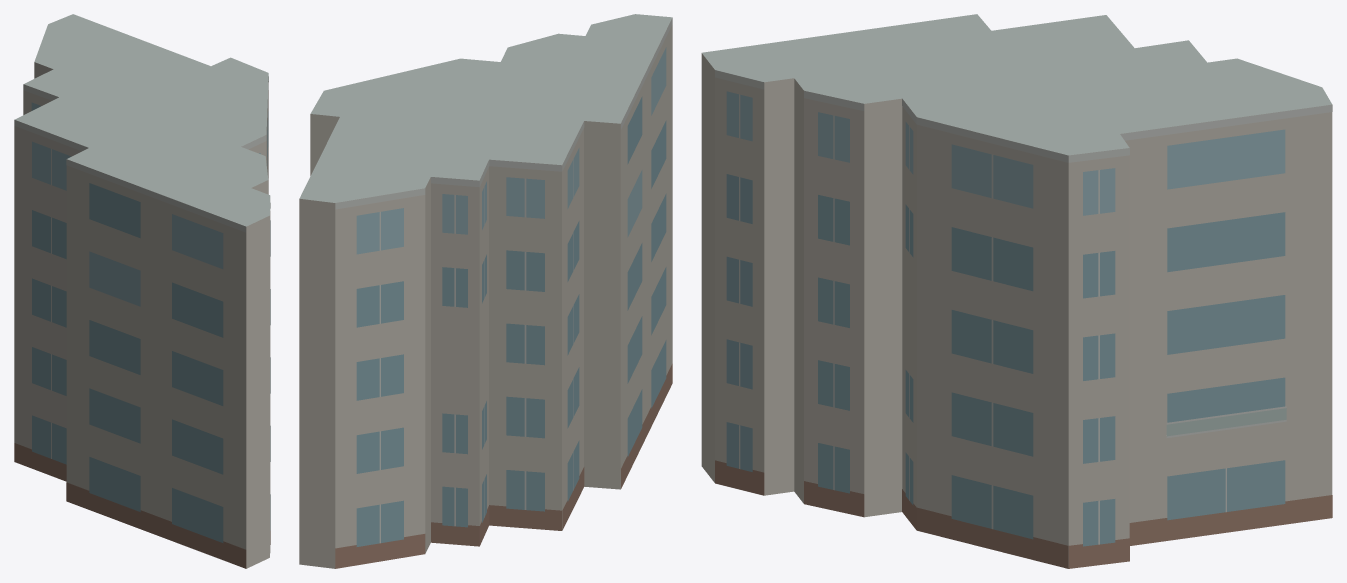
File: survey-upis-32740116.glb
3 views of the same model, side by side, from view 1: azimuth 30°, elevation 25°; view 2: azimuth 150°, elevation 25°; view 3: azimuth 270°, elevation 25° (orthographic). The views are drawn at different scales.
Parts seen in each view (by area): view 1: survey-upis-32740116.tmp; view 2: survey-upis-32740116.tmp; view 3: survey-upis-32740116.tmp.
Part boxes in pixels (left/top/right/bottom): survey-upis-32740116.tmp: left=14, top=14, right=270, bottom=568; survey-upis-32740116.tmp: left=299, top=14, right=672, bottom=568; survey-upis-32740116.tmp: left=701, top=14, right=1332, bottom=568.
Size of the model in its own units: 9.99 by 13.6 by 18.81.
